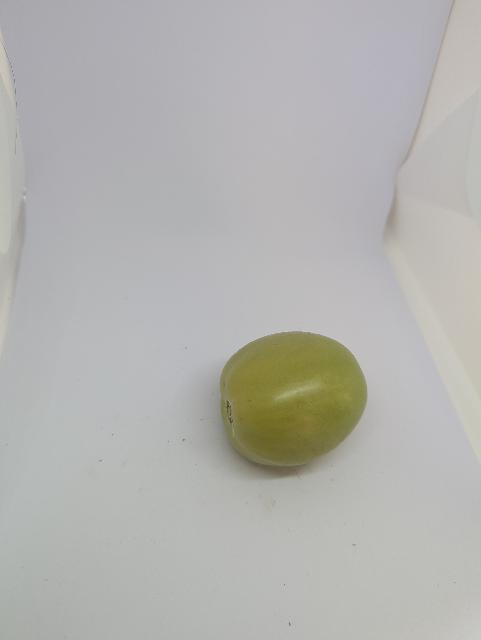green: (187, 303, 384, 490)
